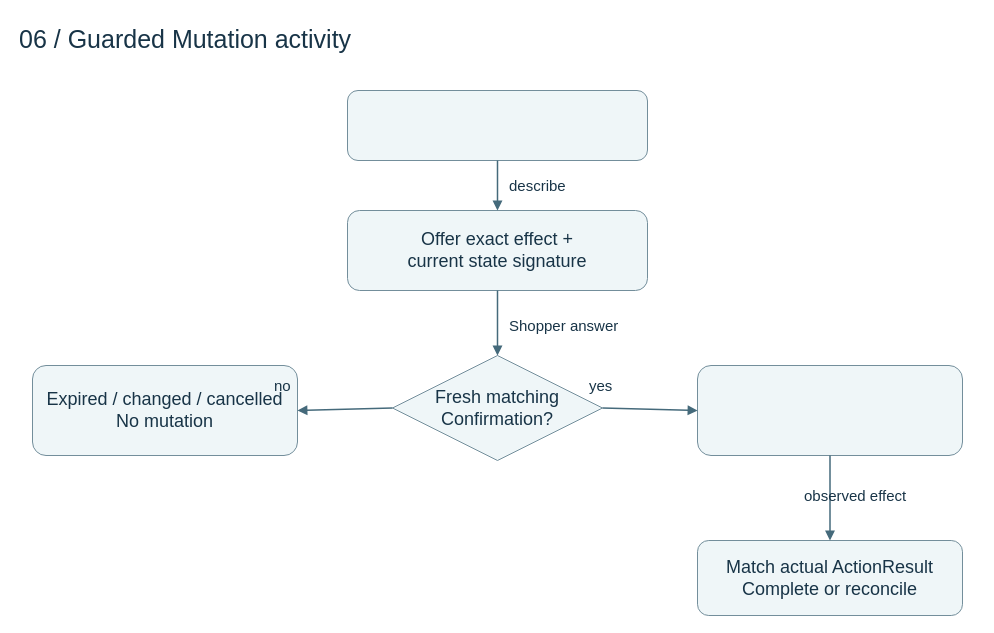
Some shapes in this 994 by 633 pixel diagram are drawn without their labels. Here are the shapes that lost their labels. From the top down, the centre of each, then its label:
(497,125): Supported guarded request
(829,410): Bridge + Storefront Recheck and consume once
